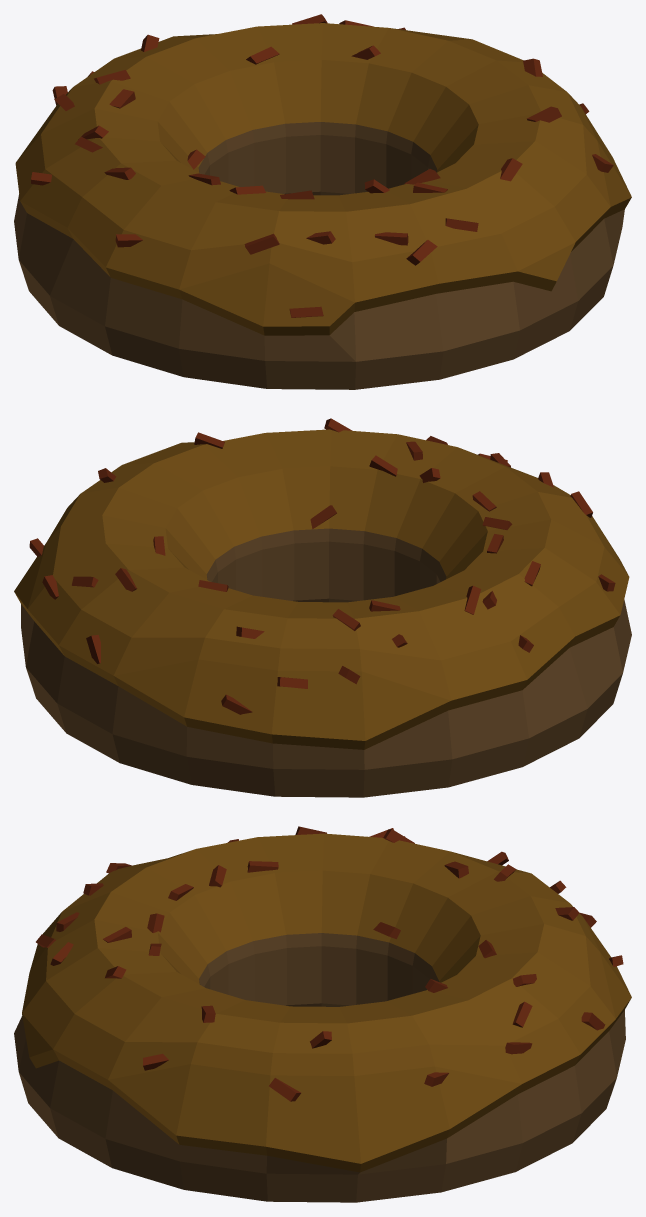
Rendered from Donut2.obj.
The picture shows the model from 3 angles, top to bottom: view 1: azimuth 30°, elevation 25°; view 2: azimuth 150°, elevation 25°; view 3: azimuth 270°, elevation 25°; orthographic projection.
Parts seen in each view (by area): view 1: Donut2_Torus.006; view 2: Donut2_Torus.006; view 3: Donut2_Torus.006.
Boxes of the visible parts, x1,y1,x2,y2 form: Donut2_Torus.006: [14, 14, 631, 389]; Donut2_Torus.006: [14, 418, 631, 797]; Donut2_Torus.006: [14, 826, 631, 1202].
Size of the model in its own units: 0.8795 by 0.2914 by 0.8673.
